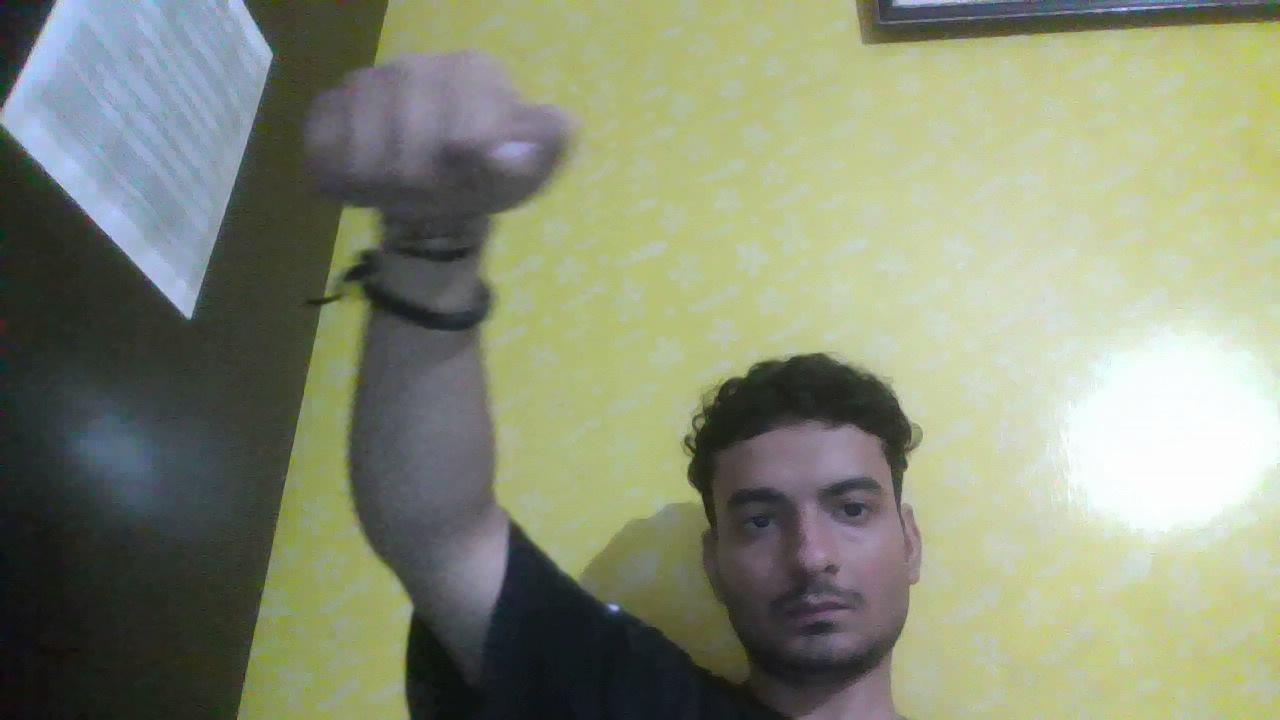Yes: (304, 40, 598, 267)
